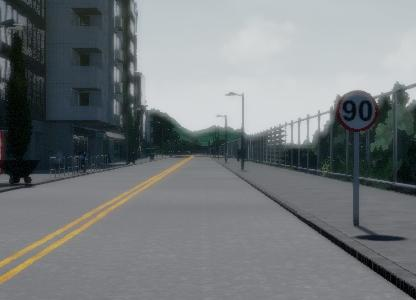Speed_90: (334, 91, 382, 136)
